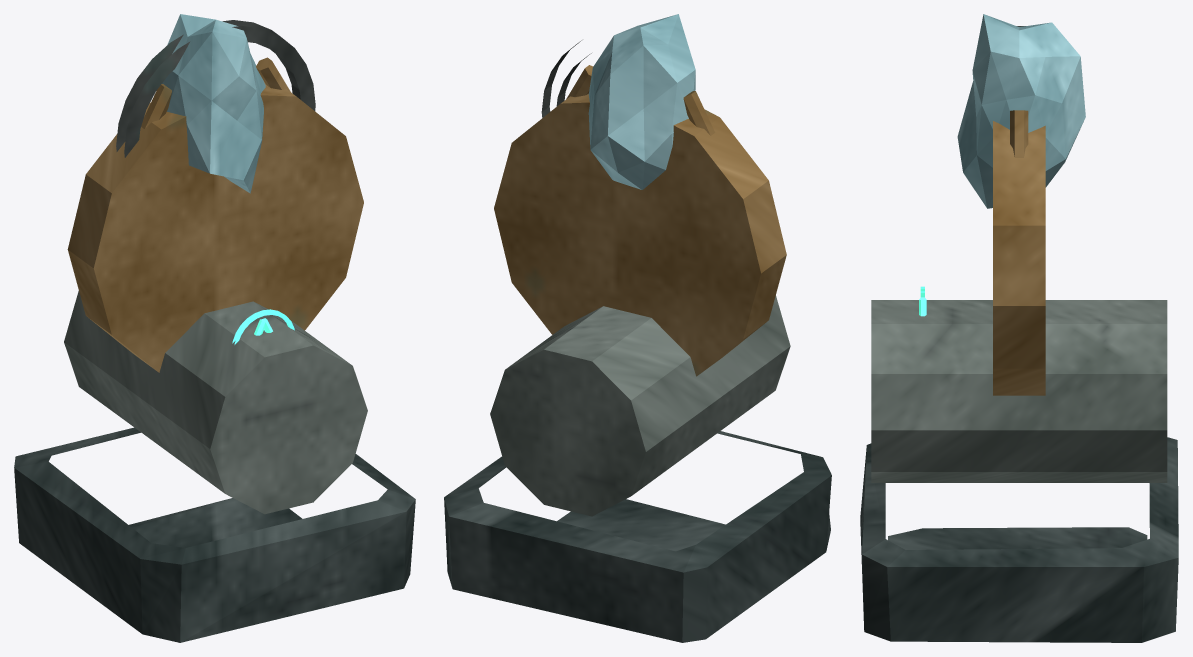
File: 0597_relic_pedestal_22.glb
3 views of the same model, side by side, from view 1: azimuth 30°, elevation 25°; view 2: azimuth 150°, elevation 25°; view 3: azimuth 270°, elevation 25° (orthographic). The views are drawn at different scales.
Visible parts, largest first — view 1: brass, stone_dark, stone, ice, iron, glow; view 2: brass, stone_dark, stone, ice, iron; view 3: stone, stone_dark, brass, ice.
Boxes of the visible parts, x1,y1,x2,y2 form: brass: (67, 57, 363, 372); stone_dark: (14, 427, 415, 642); stone: (64, 290, 367, 514); ice: (162, 14, 265, 193); iron: (116, 20, 315, 157); glow: (232, 309, 294, 344); brass: (494, 65, 786, 376); stone_dark: (444, 431, 831, 642); stone: (490, 295, 790, 516); ice: (588, 14, 695, 189); iron: (541, 40, 591, 117); stone: (871, 300, 1167, 482); stone_dark: (860, 437, 1178, 642); brass: (993, 110, 1045, 395); ice: (957, 14, 1085, 208).
Bounding box in the file's own units: 0.9662 × 1.88 × 0.968.
6 materials, 6 textured.
